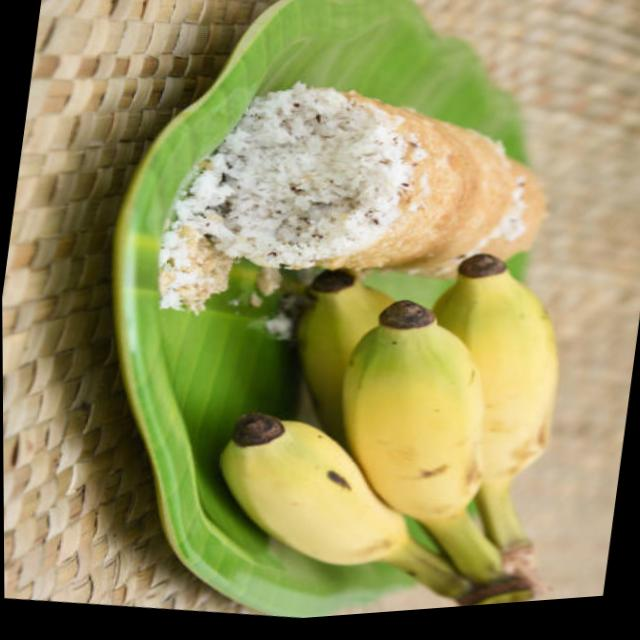BANANA: (220, 250, 562, 606)
PUTTU: (159, 75, 549, 315)
